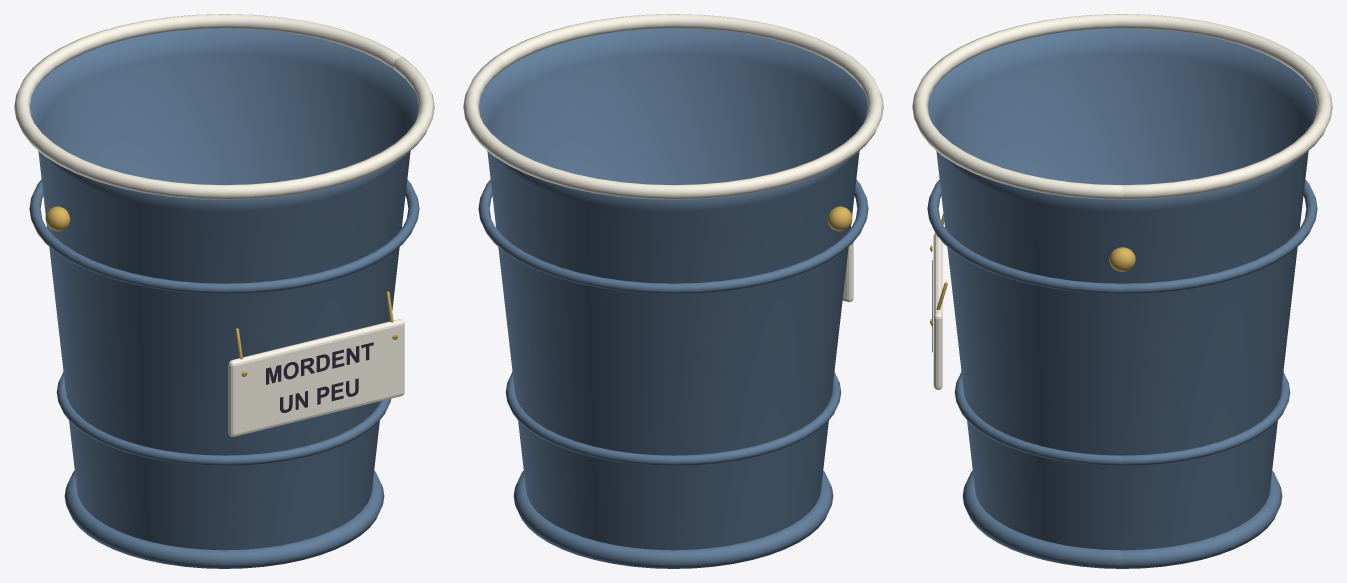
File: bucket_biting.glb
3 views of the same model, side by side, from view 1: azimuth 30°, elevation 25°; view 2: azimuth 150°, elevation 25°; view 3: azimuth 270°, elevation 25° (orthographic).
Parts seen in each view (by area): view 1: Open_metal_reservoir, Rolled_cream_lip, Removable_price_plaque, Reinforced_base, Pressed_bucket_rib.001, Pressed_bucket_rib, Label_bold_species; view 2: Open_metal_reservoir, Rolled_cream_lip, Reinforced_base, Pressed_bucket_rib.001, Pressed_bucket_rib; view 3: Open_metal_reservoir, Rolled_cream_lip, Reinforced_base, Pressed_bucket_rib.001, Pressed_bucket_rib, Removable_price_plaque, Handle_rivet.001.
Part boxes in pixels (x1=…): Open_metal_reservoir: x1=30, y1=28, x2=418, y2=550; Rolled_cream_lip: x1=14, y1=14, x2=434, y2=199; Removable_price_plaque: x1=228, y1=319, x2=404, y2=436; Reinforced_base: x1=64, y1=471, x2=384, y2=568; Pressed_bucket_rib.001: x1=29, y1=179, x2=419, y2=294; Pressed_bucket_rib: x1=56, y1=372, x2=390, y2=465; Label_bold_species: x1=266, y1=342, x2=373, y2=412; Open_metal_reservoir: x1=479, y1=28, x2=867, y2=550; Rolled_cream_lip: x1=463, y1=14, x2=883, y2=199; Reinforced_base: x1=513, y1=471, x2=833, y2=568; Pressed_bucket_rib.001: x1=478, y1=179, x2=868, y2=294; Pressed_bucket_rib: x1=505, y1=372, x2=841, y2=465; Open_metal_reservoir: x1=928, y1=28, x2=1316, y2=550; Rolled_cream_lip: x1=912, y1=14, x2=1332, y2=199; Reinforced_base: x1=962, y1=471, x2=1282, y2=568; Pressed_bucket_rib.001: x1=927, y1=179, x2=1317, y2=294; Pressed_bucket_rib: x1=954, y1=372, x2=1290, y2=465; Removable_price_plaque: x1=933, y1=233, x2=942, y2=390; Handle_rivet.001: x1=1109, y1=247, x2=1135, y2=271.
Bounding box in the file's own units: 0.374 × 0.407 × 0.374.
